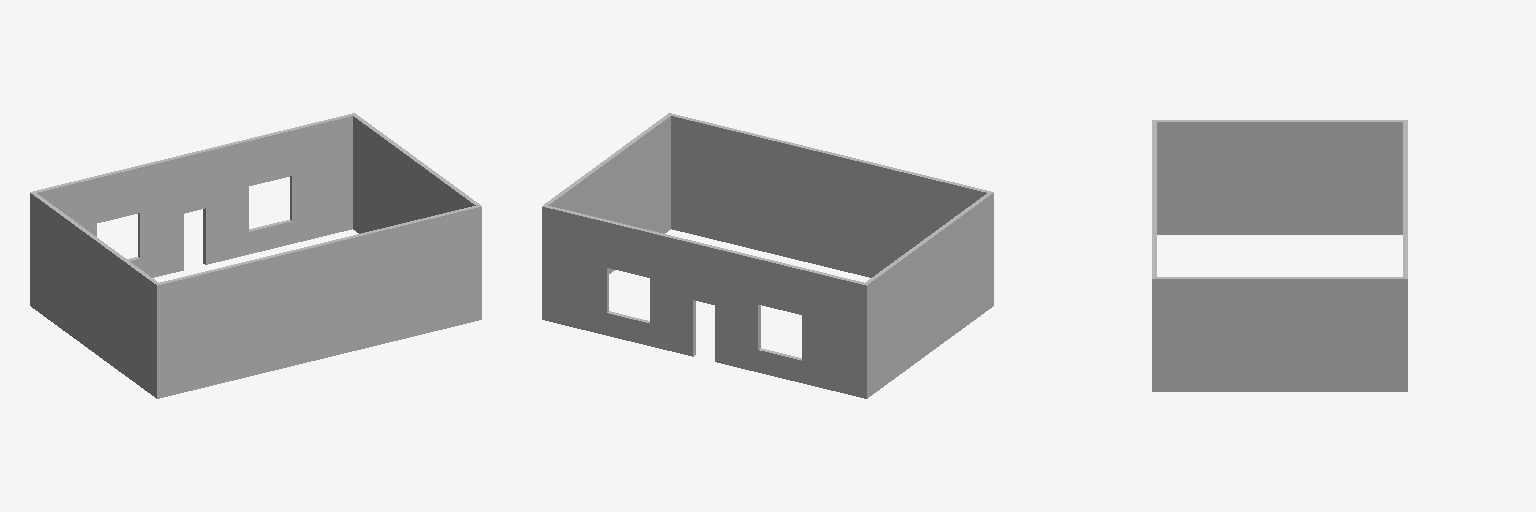
File: houseBody.obj
The picture shows the model from 3 angles: view 1: azimuth 30°, elevation 25°; view 2: azimuth 150°, elevation 25°; view 3: azimuth 270°, elevation 25°; orthographic projection.
Parts seen in each view (by area): view 1: WallSolid1_WallSolidCube1, WallSolid3_WallSolidCube3, WallDoorUpper_Cube.001, WallSolid2_WallSolidCube2, WallDoorLeft_Cube.005, WallDoorDownLeft_Cube.008, WallDoorInnerRight_Cube.011, WallDoorInnerLeft_Cube.010, WallDoorDownRight_Cube.009; view 2: WallSolid1_WallSolidCube1, WallDoorUpper_Cube.001, WallSolid3_WallSolidCube3, WallSolid2_WallSolidCube2, WallDoorRight_Cube.007, WallDoorLeft_Cube.005, WallDoorDownLeft_Cube.008, WallDoorInnerRight_Cube.011, WallDoorDownRight_Cube.009, WallDoorInnerLeft_Cube.010; view 3: WallSolid2_WallSolidCube2, WallSolid3_WallSolidCube3, WallSolid1_WallSolidCube1, WallDoorUpper_Cube.001.
Part boxes in pixels (left/top/right/bottom): WallSolid1_WallSolidCube1: left=155, top=205, right=481, bottom=398; WallSolid3_WallSolidCube3: left=31, top=192, right=159, bottom=397; WallDoorUpper_Cube.001: left=30, top=113, right=356, bottom=237; WallSolid2_WallSolidCube2: left=353, top=114, right=479, bottom=233; WallDoorLeft_Cube.005: left=290, top=161, right=352, bottom=243; WallDoorDownLeft_Cube.008: left=203, top=220, right=291, bottom=264; WallDoorInnerRight_Cube.011: left=138, top=202, right=183, bottom=257; WallDoorInnerLeft_Cube.010: left=203, top=187, right=248, bottom=241; WallDoorDownRight_Cube.009: left=127, top=248, right=183, bottom=277; WallSolid1_WallSolidCube1: left=668, top=113, right=993, bottom=305; WallDoorUpper_Cube.001: left=542, top=205, right=868, bottom=330; WallSolid3_WallSolidCube3: left=864, top=192, right=992, bottom=396; WallSolid2_WallSolidCube2: left=544, top=114, right=670, bottom=273; WallDoorRight_Cube.007: left=802, top=315, right=868, bottom=398; WallDoorLeft_Cube.005: left=542, top=252, right=608, bottom=335; WallDoorDownLeft_Cube.008: left=607, top=311, right=695, bottom=356; WallDoorInnerRight_Cube.011: left=715, top=294, right=760, bottom=349; WallDoorDownRight_Cube.009: left=715, top=340, right=801, bottom=382; WallDoorInnerLeft_Cube.010: left=650, top=278, right=695, bottom=333; WallSolid2_WallSolidCube2: left=1155, top=277, right=1404, bottom=391; WallSolid3_WallSolidCube3: left=1155, top=120, right=1402, bottom=234; WallSolid1_WallSolidCube1: left=1152, top=120, right=1156, bottom=391; WallDoorUpper_Cube.001: left=1403, top=120, right=1407, bottom=323.
Size of the model in its own units: 30 by 10 by 20.4.